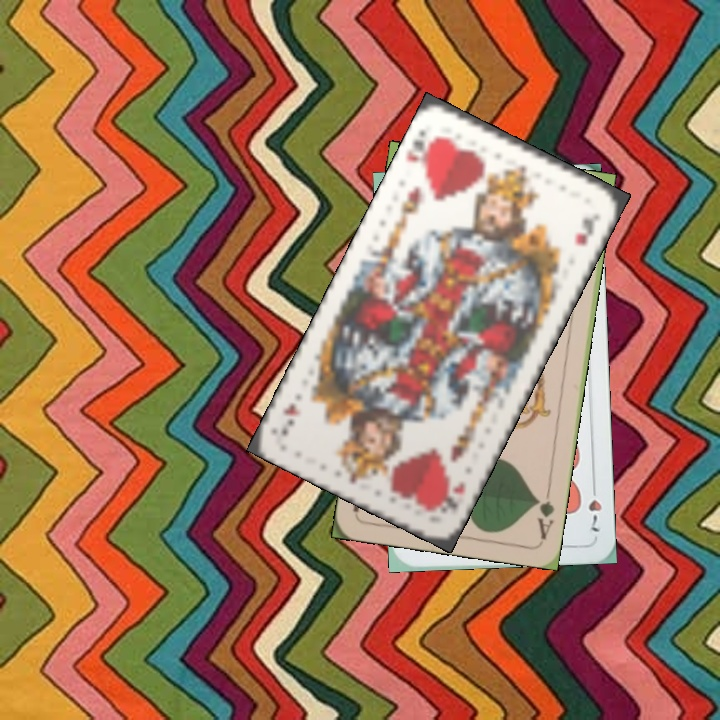GA: (531, 483, 557, 542)
H7: (584, 479, 604, 536)
HK: (402, 125, 442, 166), (437, 477, 469, 517)
